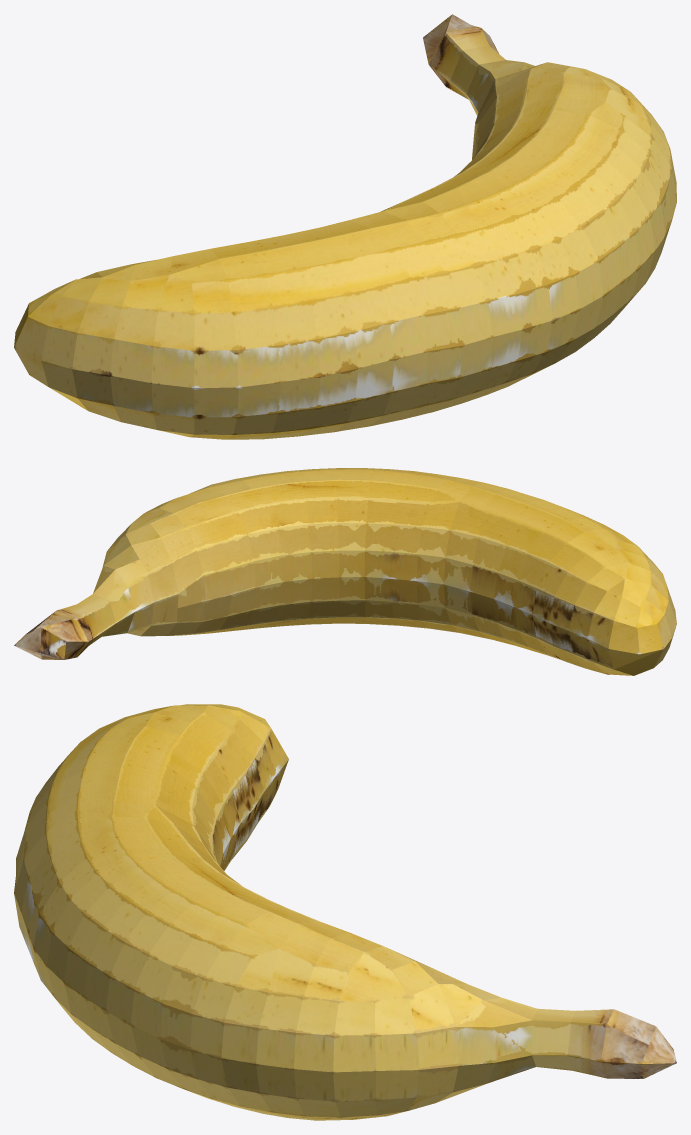
The model's file is banana.fbx.
3 views of the same model, one above another, from view 1: azimuth 30°, elevation 25°; view 2: azimuth 150°, elevation 25°; view 3: azimuth 270°, elevation 25° (orthographic). The views are drawn at different scales.
Parts seen in each view (by area): view 1: banana; view 2: banana; view 3: banana.
Part boxes in pixels (<box>): banana: <box>14,14,676,439</box>; banana: <box>14,468,676,675</box>; banana: <box>14,704,676,1120</box>.
Size of the model in its own units: 830 by 221 by 694.
